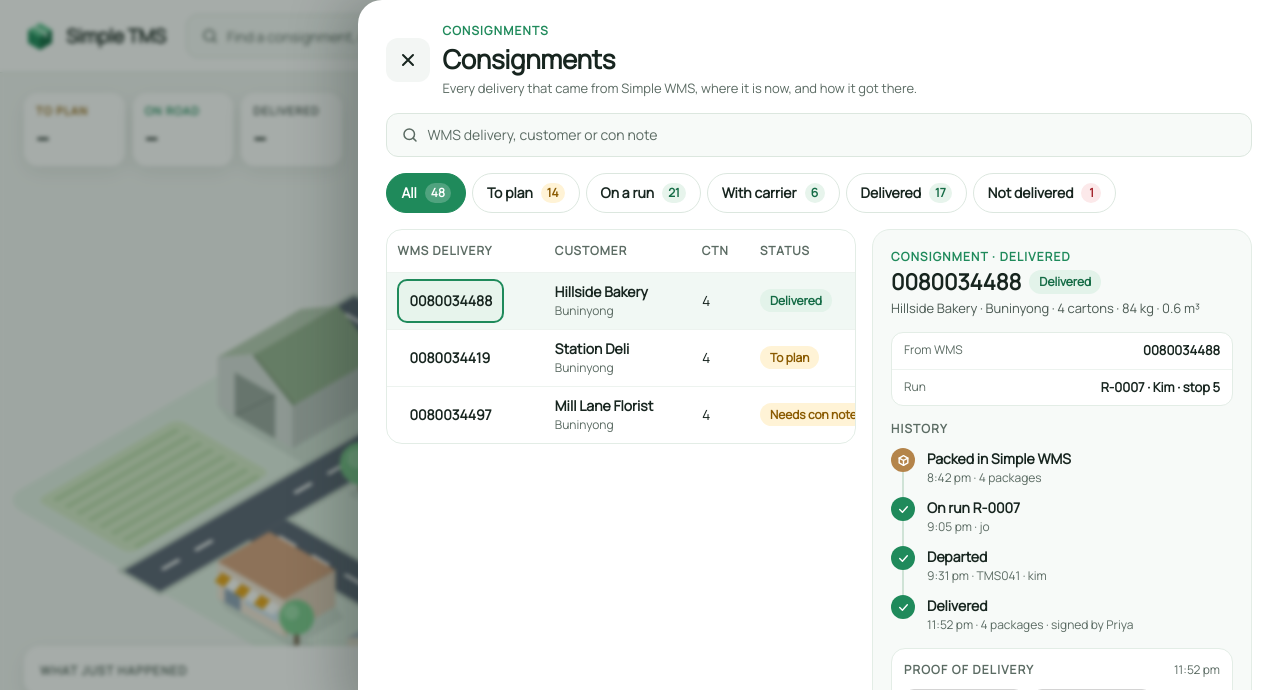
Test: Consignments › says why one wasn't delivered
The width and height of the screenshot is (1280, 690).
Step 1. Click the button named "Show 0080034419" → (450,358), box [397, 336, 502, 380]
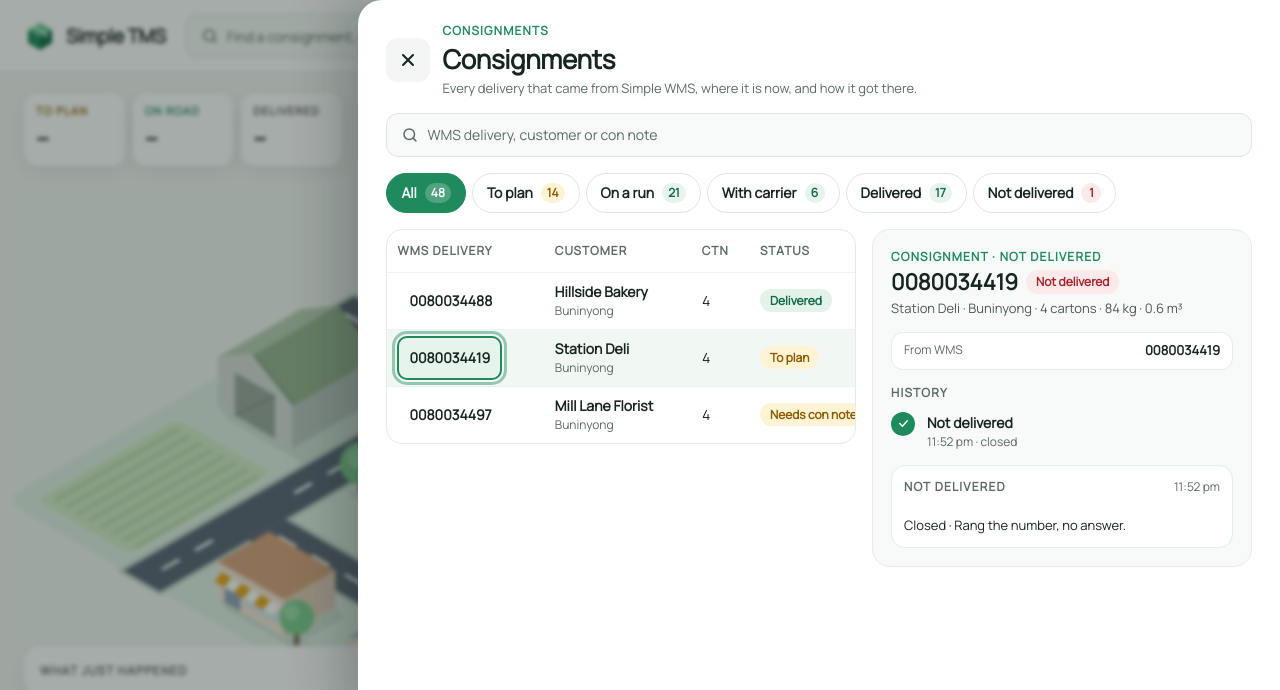
Expected: the text "Closed · Rang the number, no answer." is shown, [904, 516, 1126, 534]
